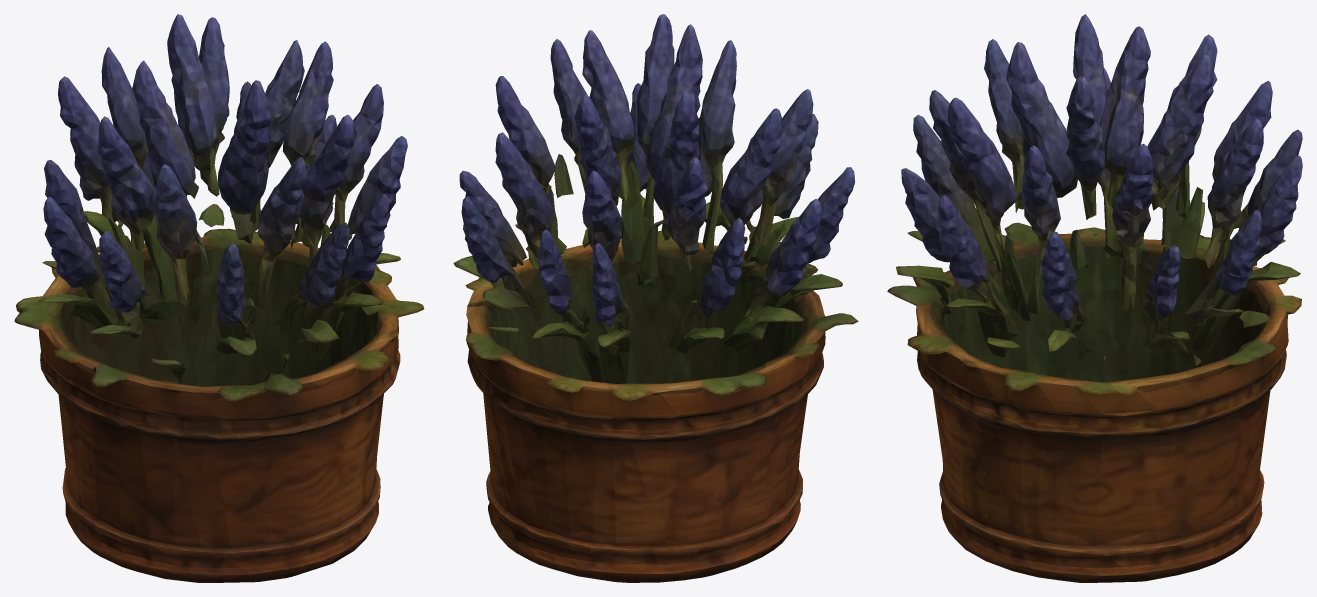
3 renders of one model, left to right at view 1: azimuth 30°, elevation 25°; view 2: azimuth 150°, elevation 25°; view 3: azimuth 270°, elevation 25°, orthographic. The views are drawn at different scales.
Visible parts, largest first — view 1: world; view 2: world; view 3: world.
Part boxes in pixels (<box>): world: <box>14,14,424,582</box>; world: <box>453,14,858,582</box>; world: <box>887,14,1302,582</box>.
Size of the model in its own units: 0.7605 by 0.9986 by 0.785.
1 material, 1 textured.
